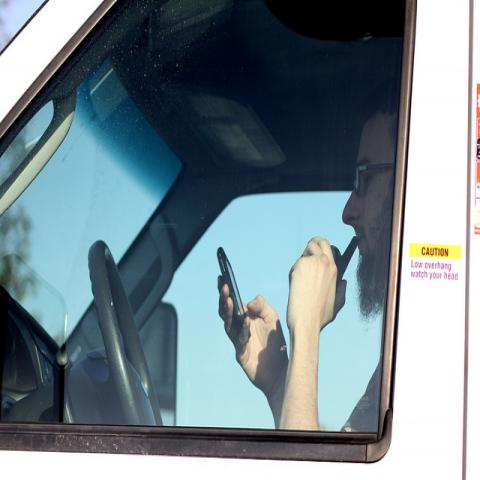car: (0, 0, 419, 434)
